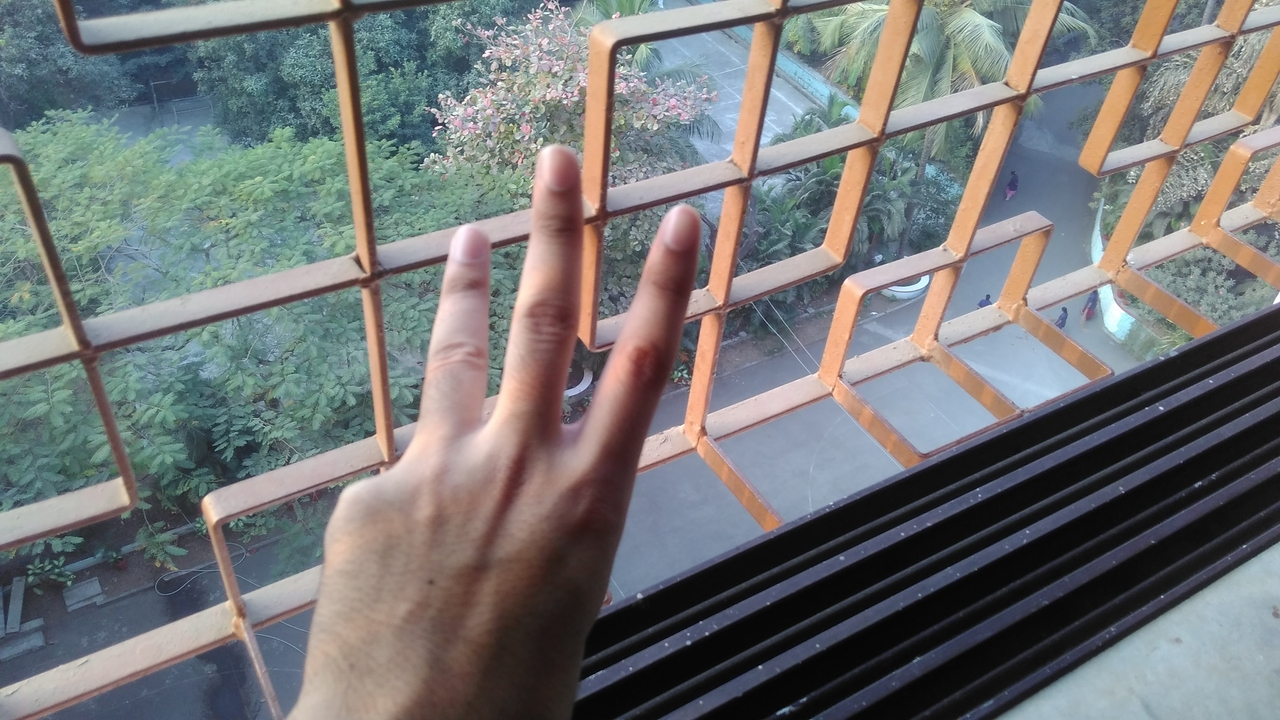fingertip: (646, 196, 704, 262), (530, 138, 584, 202), (434, 216, 490, 268)
